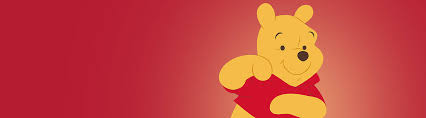Winnie: (238, 4, 343, 102)
